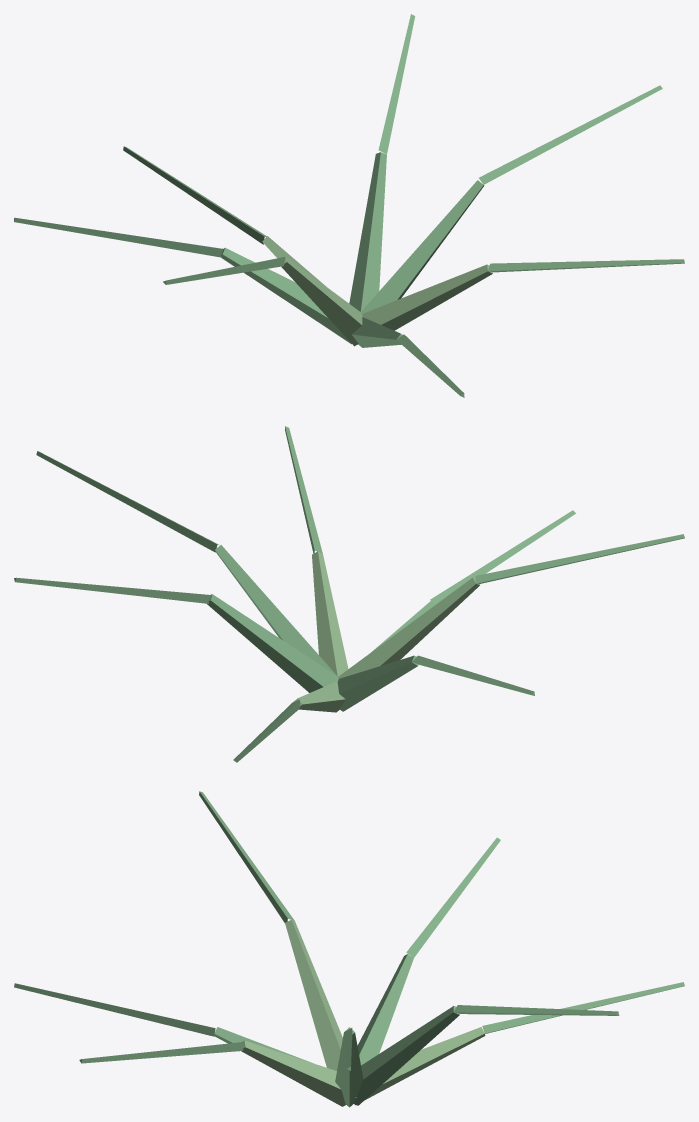
File: fern_v22.glb
3 views of the same model, one above another, from view 1: azimuth 30°, elevation 25°; view 2: azimuth 150°, elevation 25°; view 3: azimuth 270°, elevation 25° (orthographic).
Parts seen in each view (by area): view 1: lod0; view 2: lod0; view 3: lod0.
Boxes of the visible parts, bbox=[...] form: lod0: bbox=[14, 14, 684, 397]; lod0: bbox=[14, 426, 684, 762]; lod0: bbox=[14, 791, 684, 1107].
Size of what is drawn, in the model's own units: 1.41 by 0.4387 by 1.45.
